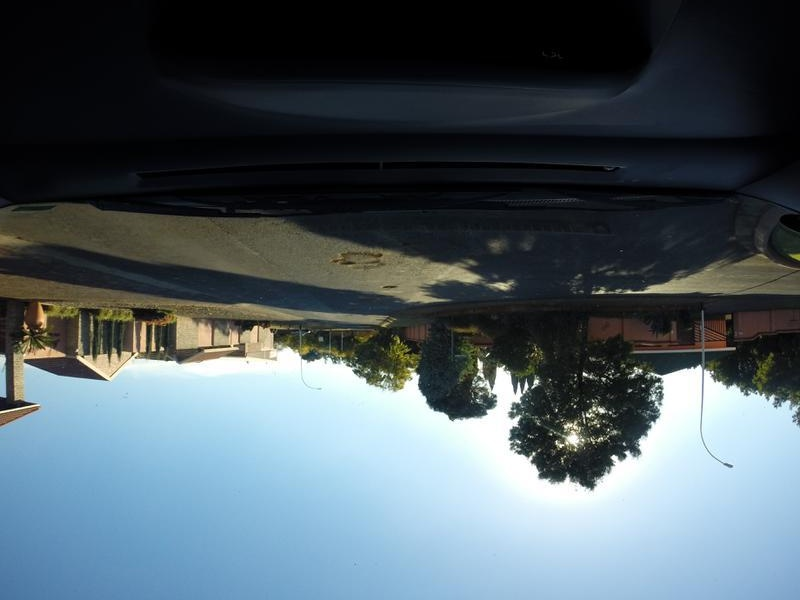pothole: (320, 240, 387, 277), (361, 278, 404, 294)
